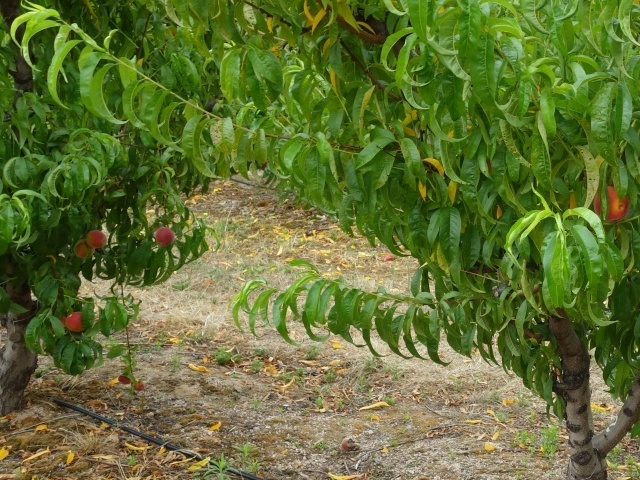peach: (588, 183, 634, 229), (63, 309, 91, 337), (68, 237, 95, 263), (83, 227, 109, 253), (151, 224, 177, 248)
